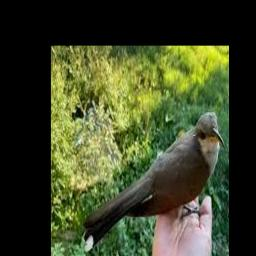Cuckoo: (83, 112, 225, 252)
